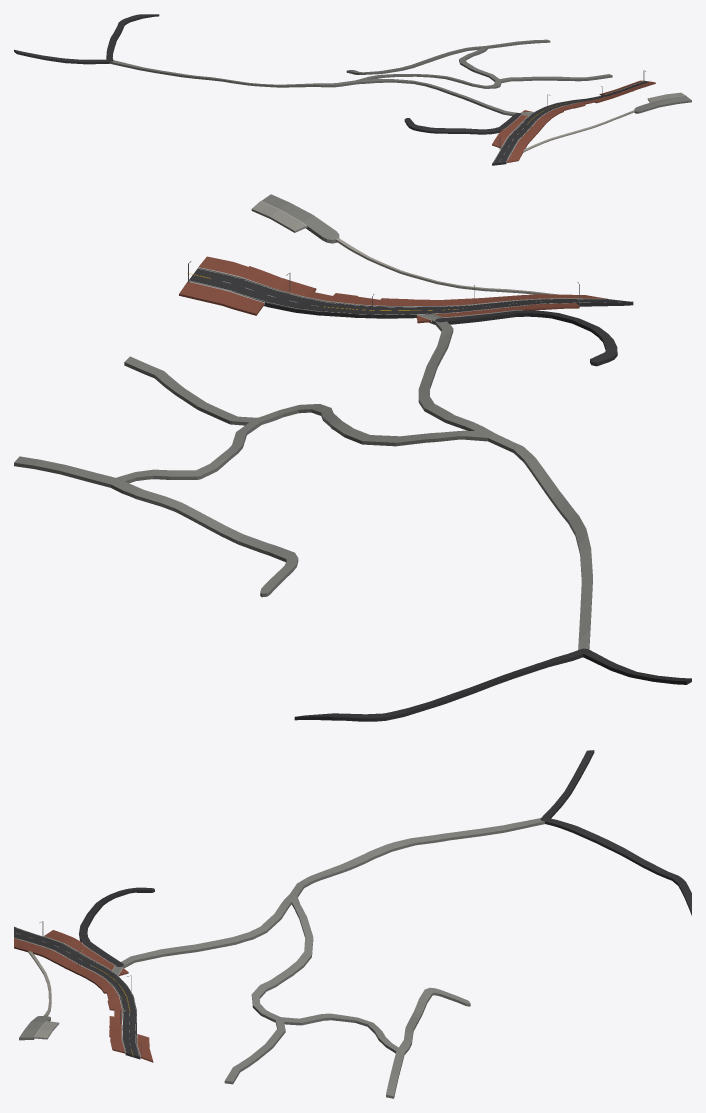
The picture shows the model from 3 angles, top to bottom: view 1: azimuth 30°, elevation 25°; view 2: azimuth 150°, elevation 25°; view 3: azimuth 270°, elevation 25°; orthographic projection. The views are drawn at different scales.
Size of the model in its own units: 295 by 36.35 by 292.
